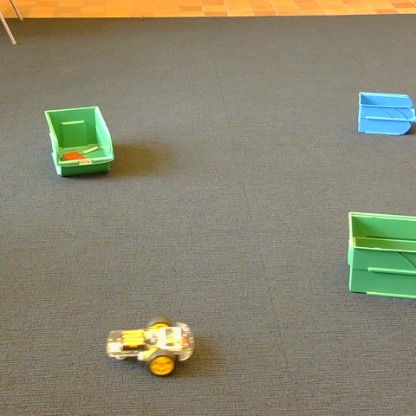robot: (107, 316, 194, 376)
